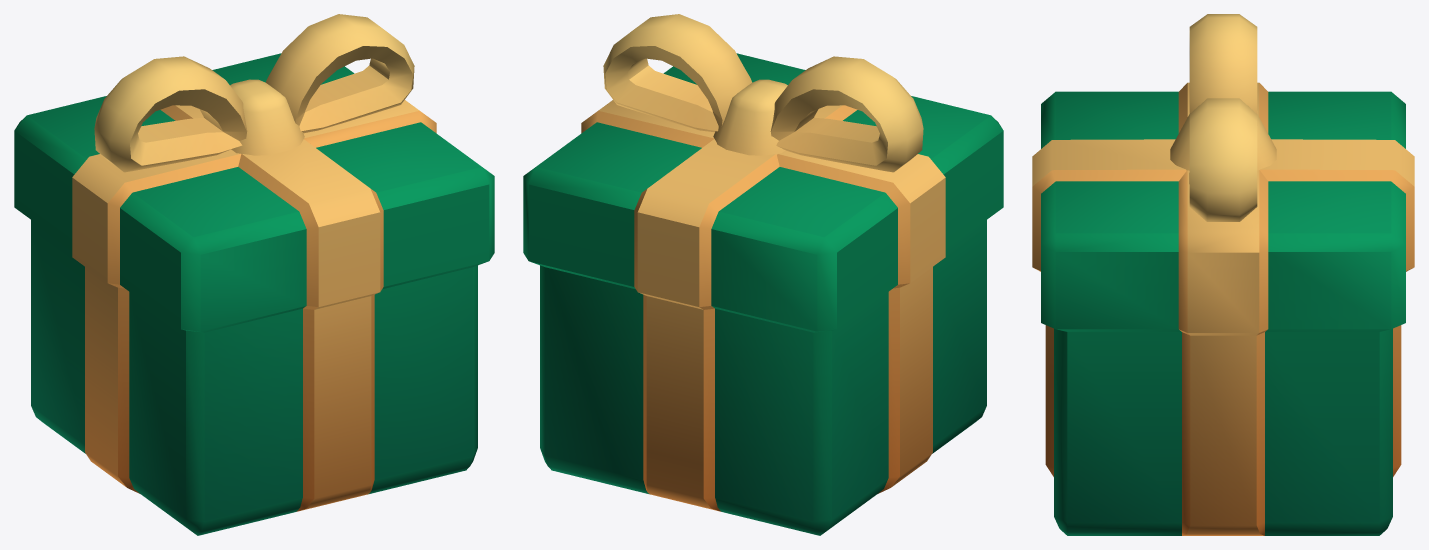
Rendered from present_A_green.fbx.
The picture shows the model from 3 angles, left to right: view 1: azimuth 30°, elevation 25°; view 2: azimuth 150°, elevation 25°; view 3: azimuth 270°, elevation 25°; orthographic projection.
Visible parts, largest first — view 1: present_A_green; view 2: present_A_green; view 3: present_A_green.
Boxes of the visible parts, x1,y1,x2,y2 form: present_A_green: (14, 14, 494, 535); present_A_green: (523, 14, 1003, 535); present_A_green: (1032, 14, 1414, 535).
Size of the model in its own units: 56.38 by 66.17 by 56.38.
